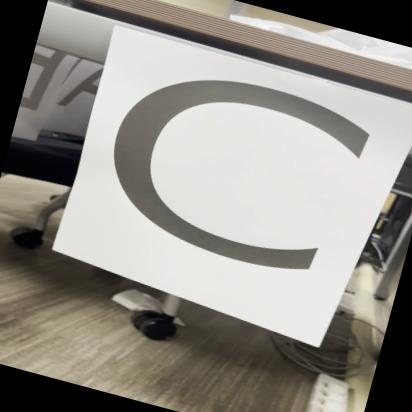seat: (56, 35, 402, 340)
